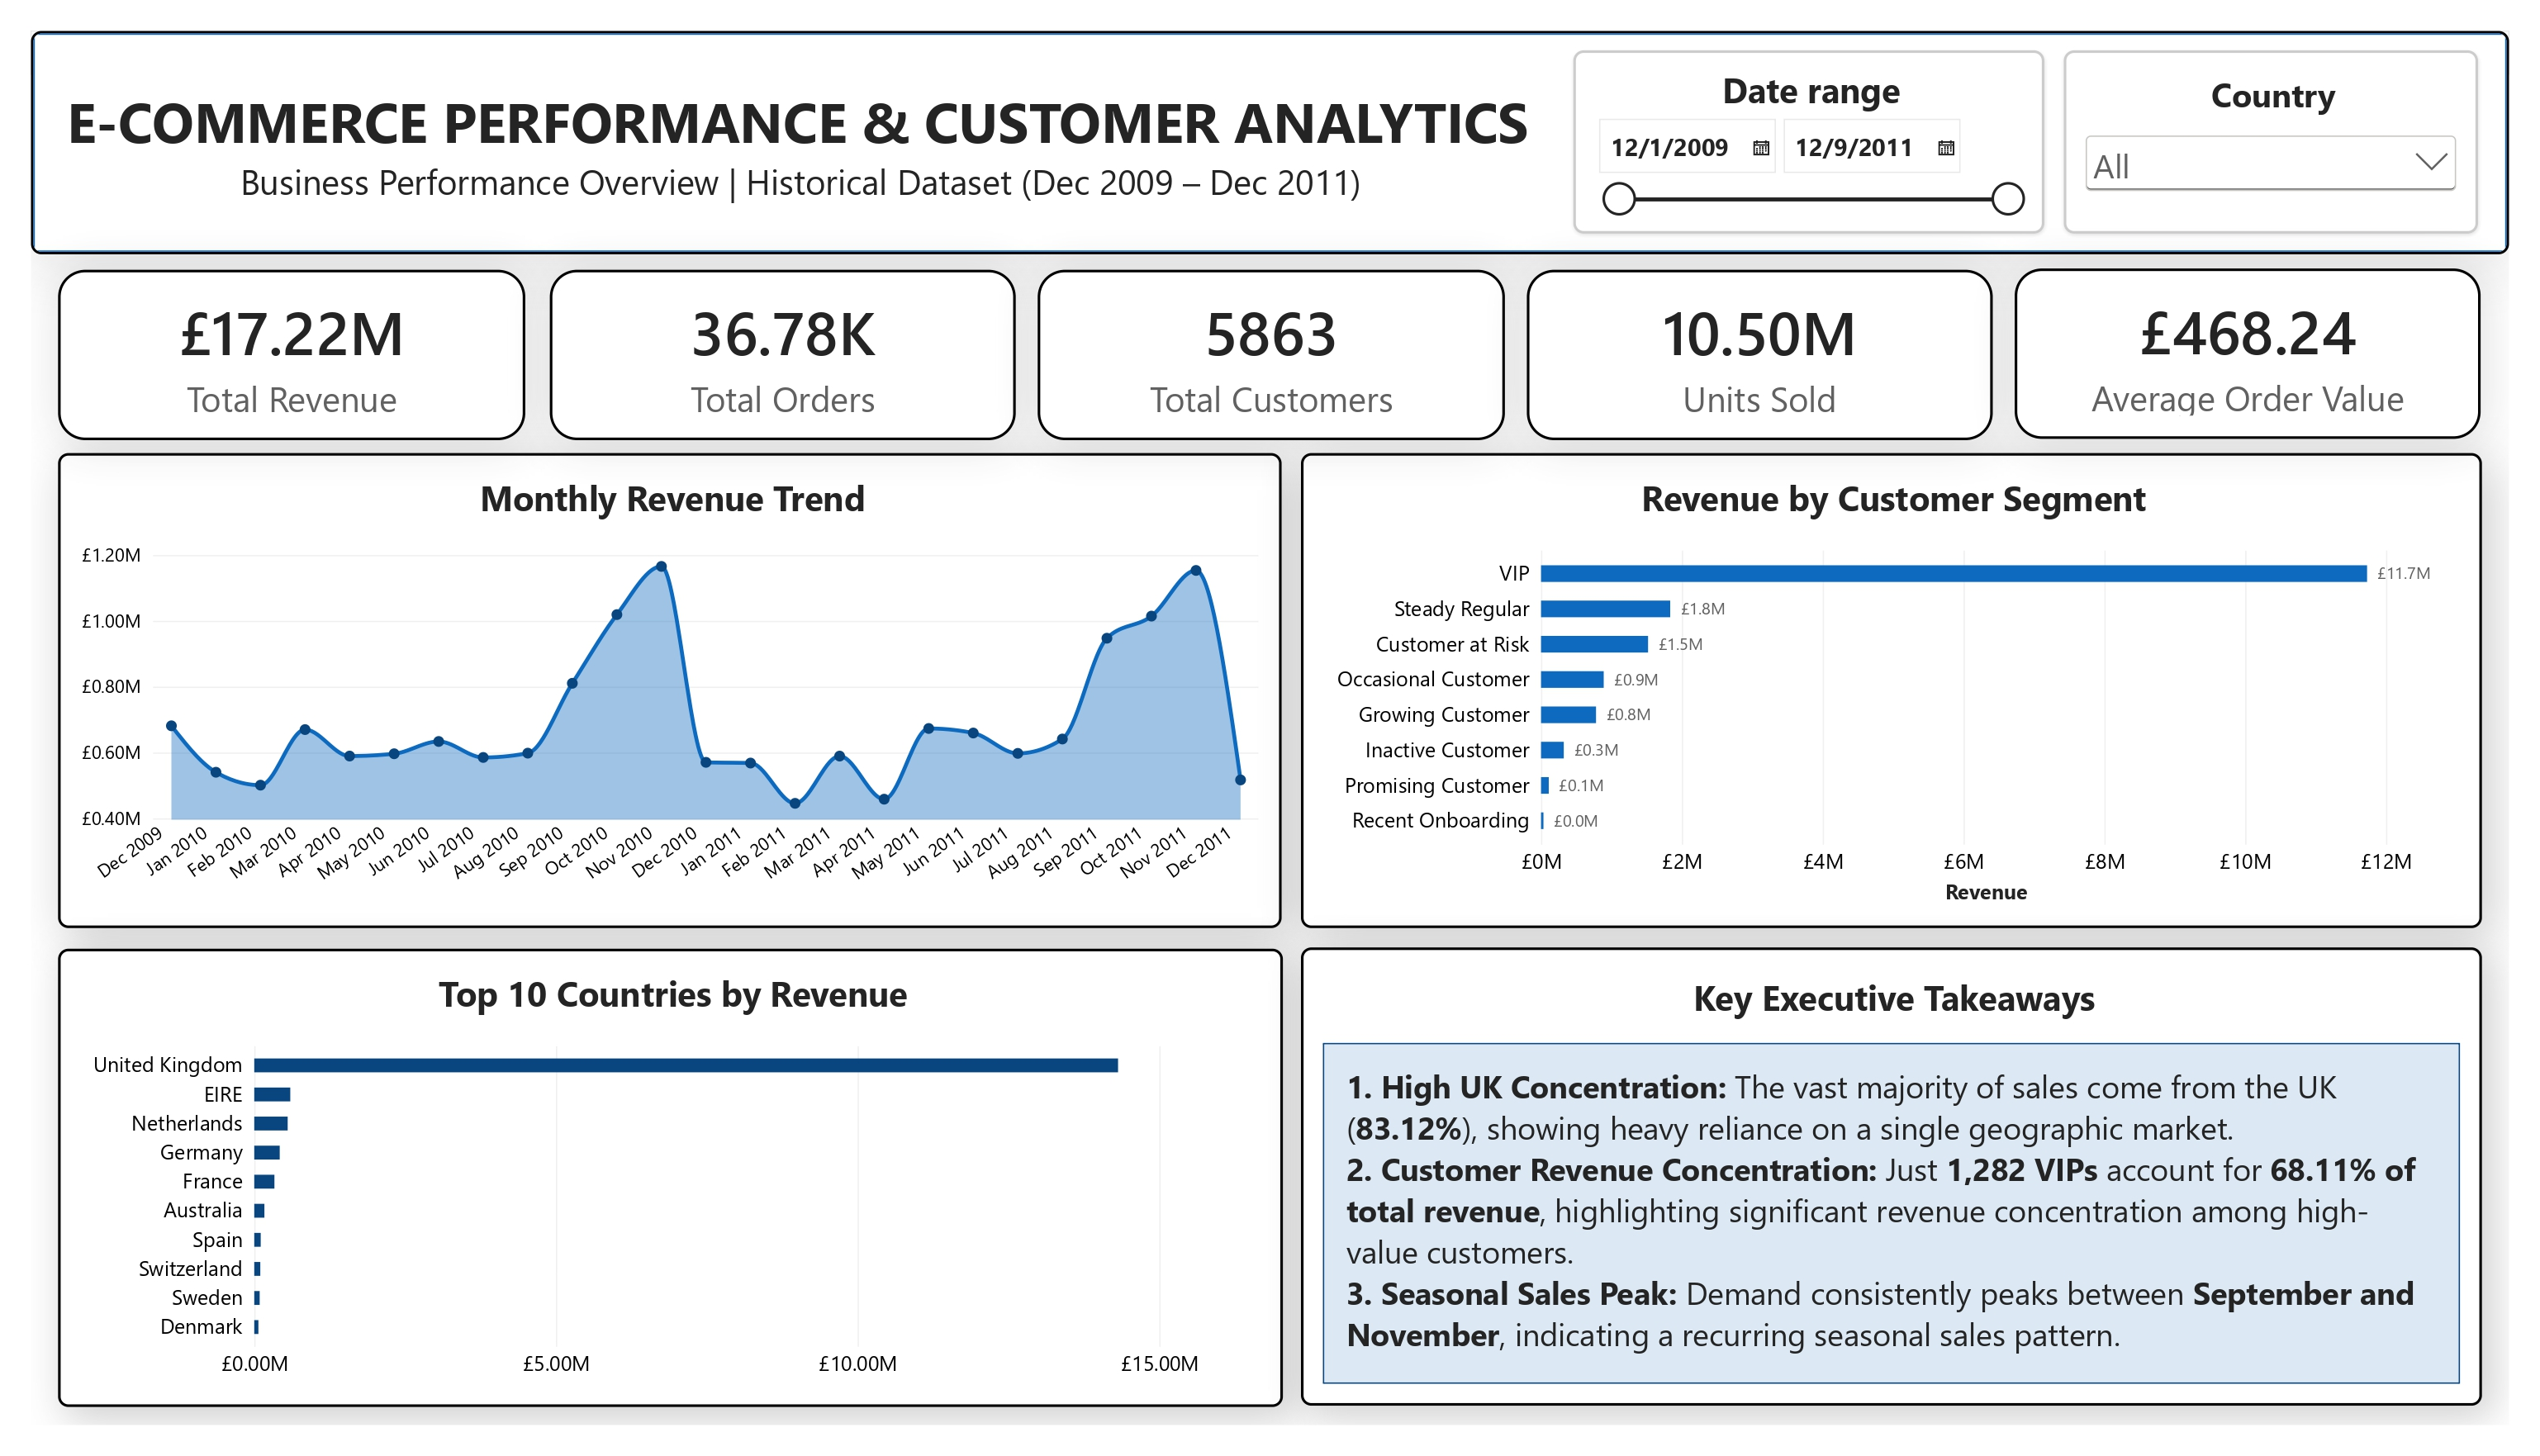

The page's visual inventory and layout, read from the dashboard file:
{"tool":"powerbi","page":{"name":"Business Performance Overview ","canvas":[1920,1080],"ordinal":0},"visuals":[{"type":"lineChart","title":"Monthly Revenue Trend ","fields":{"Category":["online_retail_cleaned csv.Month Year"],"Y":["_Measures.Total Revenue"]},"box":[21.3,327.4,948.2,367.8],"z":0},{"type":"clusteredBarChart","title":"Revenue by Customer Segment ","fields":{"Category":["customer_rfm_segments.Segment"],"Y":["_Measures.Total Revenue"]},"box":[984.3,327.4,915,367.8],"z":1000},{"type":"clusteredBarChart","title":"Top 10 Countries by Revenue ","fields":{"Category":["online_retail_cleaned csv.Country"],"Y":["_Measures.Total Revenue"]},"box":[21.4,710.6,948.2,355.3],"z":2000},{"type":"shape","title":"Key Executive Takeaways ","box":[984.3,710.1,915,355],"z":3000},{"type":"shape","box":[0,0,1920,173.4],"z":4000},{"type":"textbox","box":[1018.9,800.5,843.3,233.3],"z":5000},{"type":"textbox","box":[21.4,40.7,1158,98.5],"z":6000},{"type":"slicer","title":"Country ","fields":{"Values":["online_retail_cleaned csv.Country"]},"box":[1575.4,14.9,321,142.4],"z":7000},{"type":"slicer","title":"Date range","fields":{"Values":["online_retail_cleaned csv.InvoiceDate"]},"box":[1194.8,14.9,365.7,142.4],"z":8000},{"type":"card","fields":{"Values":["_Measures.Total Revenue"]},"box":[21.3,185,361.4,131.8],"z":9000},{"type":"card","fields":{"Values":["_Measures.Total Orders"]},"box":[401.8,185,361.4,131.8],"z":10000},{"type":"card","fields":{"Values":["_Measures.Total Customers"]},"box":[780.2,185,361.4,131.8],"z":11000},{"type":"card","fields":{"Values":["_Measures.Units Sold"]},"box":[1158.7,185,361.4,131.8],"z":12000},{"type":"card","fields":{"Values":["_Measures.Average Order Value"]},"box":[1536.9,184.1,361.4,131.8],"z":13000}]}

Visuals, with their boxes in screenshot pixels (x1, y1, x2, y2):
"Monthly Revenue Trend " lineChart: bbox=[41, 447, 1278, 927]
"Revenue by Customer Segment " clusteredBarChart: bbox=[1298, 447, 2491, 927]
"Top 10 Countries by Revenue " clusteredBarChart: bbox=[41, 946, 1278, 1411]
"Key Executive Takeaways " shape: bbox=[1298, 946, 2491, 1409]
shape: bbox=[13, 20, 2519, 246]
textbox: bbox=[1342, 1064, 2443, 1368]
textbox: bbox=[41, 73, 1552, 202]
"Country " slicer: bbox=[2068, 40, 2487, 225]
"Date range" slicer: bbox=[1572, 40, 2049, 225]
card - _Measures.Total Revenue: bbox=[41, 261, 512, 433]
card - _Measures.Total Orders: bbox=[538, 261, 1009, 433]
card - _Measures.Total Customers: bbox=[1031, 261, 1503, 433]
card - _Measures.Units Sold: bbox=[1525, 261, 1996, 433]
card - _Measures.Average Order Value: bbox=[2018, 260, 2490, 432]
